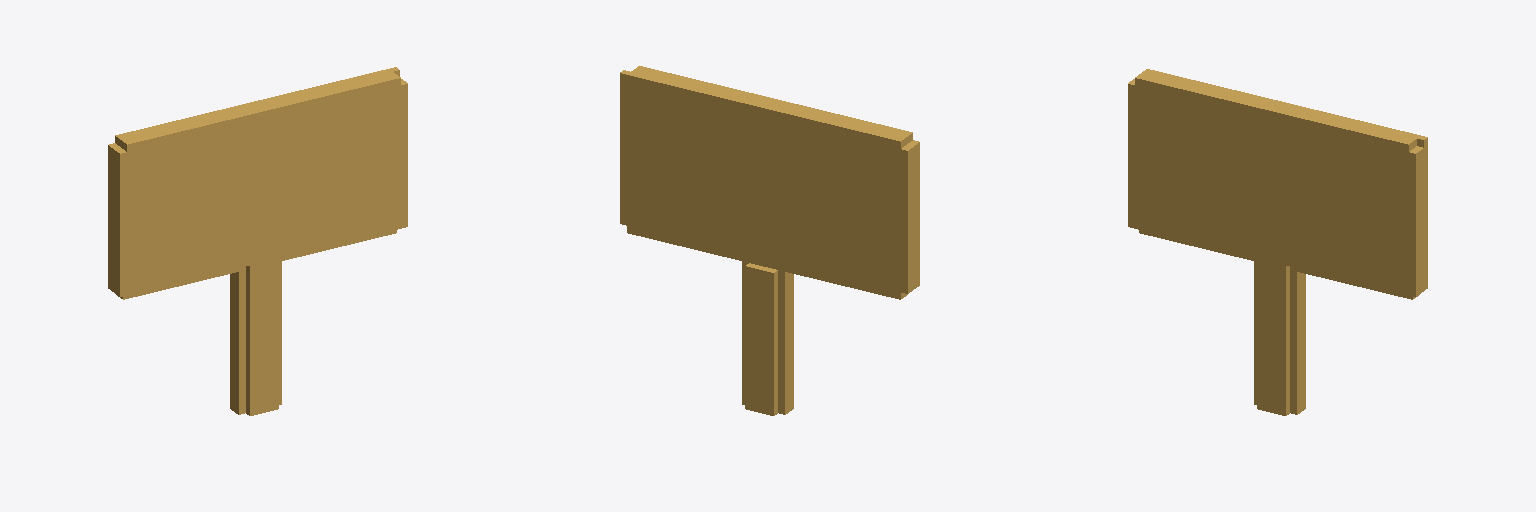
The picture shows the model from 3 angles: view 1: azimuth 30°, elevation 25°; view 2: azimuth 150°, elevation 25°; view 3: azimuth 330°, elevation 25°; orthographic projection.
Parts seen in each view (by area): view 1: object 1; view 2: object 1; view 3: object 1.
Boxes of the visible parts, x1=… form: object 1: x1=108, y1=67, x2=407, y2=415; object 1: x1=620, y1=66, x2=919, y2=415; object 1: x1=1128, y1=69, x2=1427, y2=415.
Bounding box in the file's own units: 4 × 4 × 0.4.
Materials: 1 (1 with a texture image).